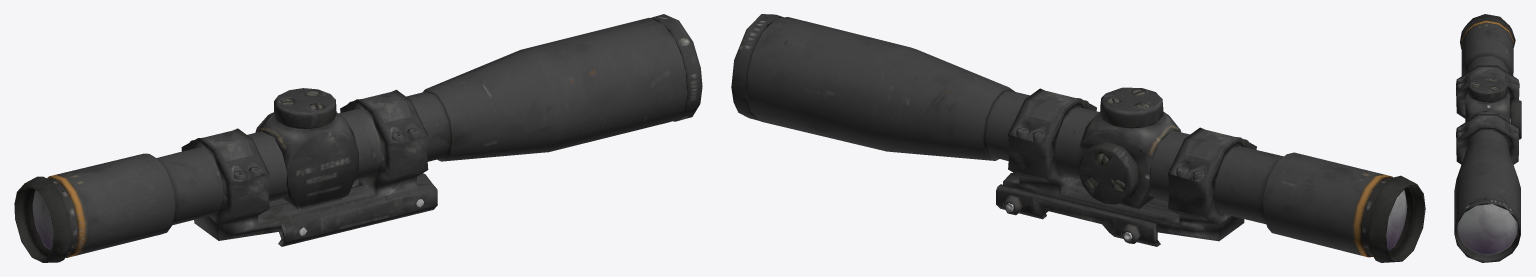
File: Rifle_8XScope.fbx
3 renders of one model, left to right at view 1: azimuth 30°, elevation 25°; view 2: azimuth 150°, elevation 25°; view 3: azimuth 270°, elevation 25°, orthographic. The views are drawn at different scales.
Parts seen in each view (by area): view 1: 8xScope; view 2: 8xScope; view 3: 8xScope.
Boxes of the visible parts, left/top/right/bottom form: 8xScope: left=14, top=14, right=702, bottom=262; 8xScope: left=731, top=14, right=1425, bottom=262; 8xScope: left=1454, top=14, right=1521, bottom=262.
Size of the model in its own units: 0.2 by 0.0383 by 0.0292.
